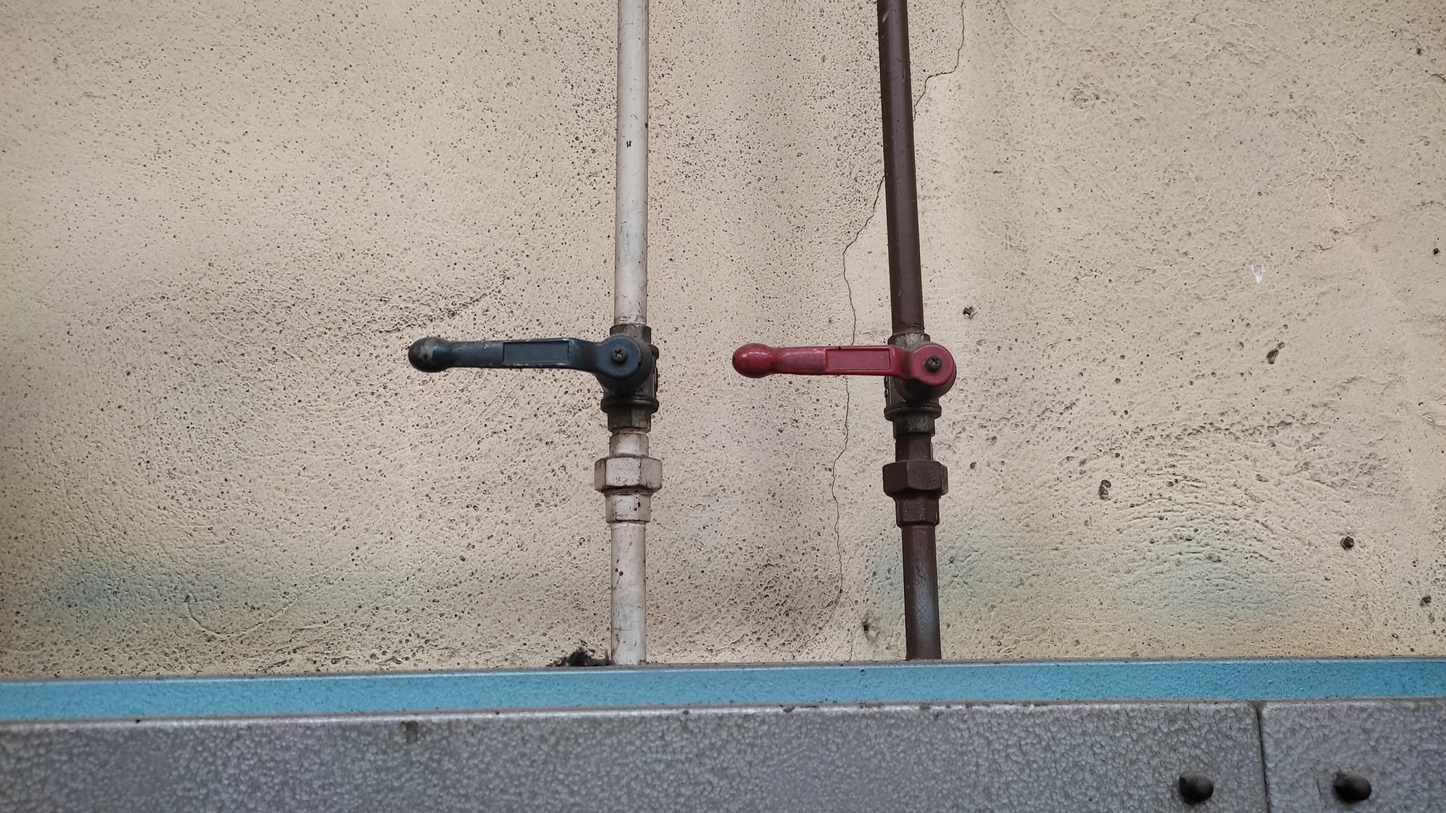closed valve: (406, 319, 663, 437), (725, 326, 961, 444)
